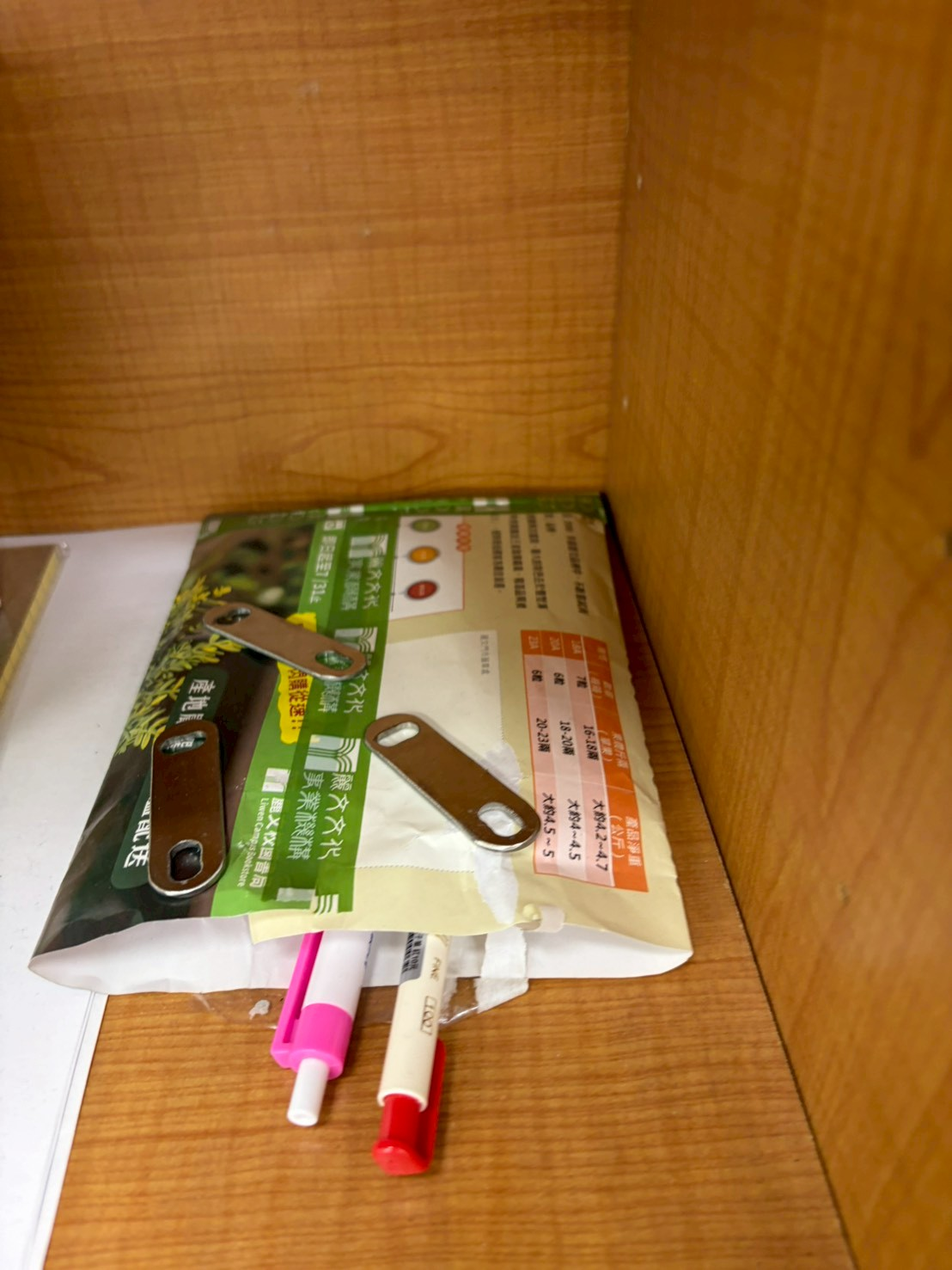Fe: (139, 721, 221, 902), (356, 739, 425, 938), (201, 627, 243, 797)
